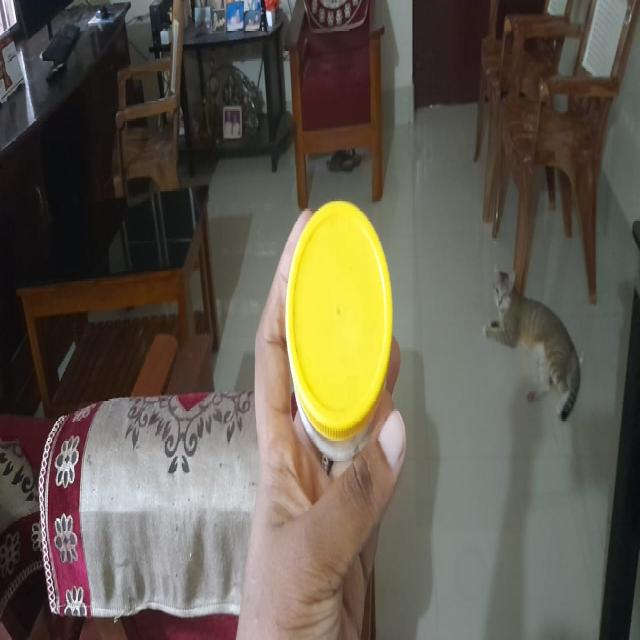Plastic - Recyclable: (284, 197, 394, 463)
